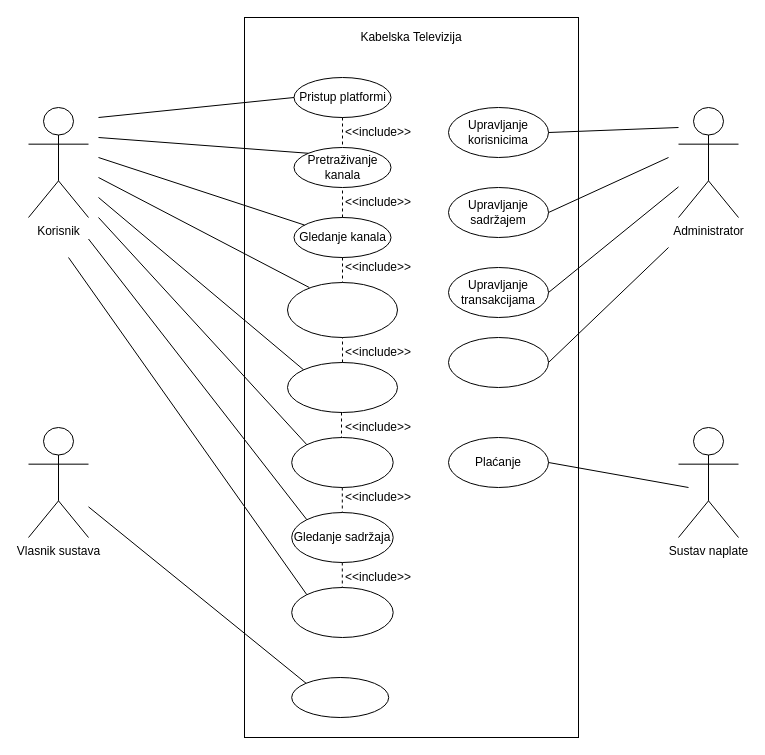
Image size: 765x755. Some labels were removed from this diagram. The shapes that lost their labels are listed below. From the top down, each one's centre as x and y in pixels, then its label:
[342,310]: Pretraživanje premium sadržaja
[498,362]: Upravljanje recenzijama
[342,387]: Kupovina premium sadržaja
[342,462]: Plaćanje sadržaja
[342,612]: Recenzija sadržaja
[340,697]: Pregled izvještaja
